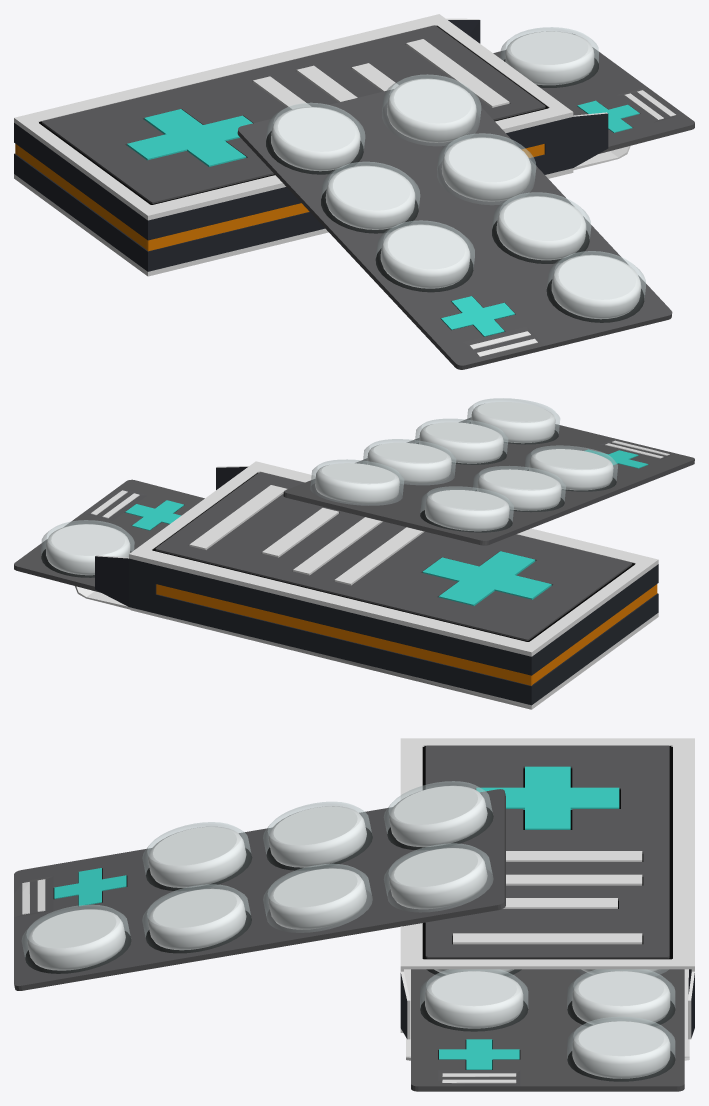
Rendered from SM_Medication_Box.fbx.
3 views of the same model, one above another, from view 1: azimuth 30°, elevation 25°; view 2: azimuth 150°, elevation 25°; view 3: azimuth 270°, elevation 25° (orthographic). The views are drawn at different scales.
Parts seen in each view (by area): view 1: SM_Medication_Box.001; view 2: SM_Medication_Box.001; view 3: SM_Medication_Box.001.
Part boxes in pixels (<box>): SM_Medication_Box.001: <box>14,14,694,369</box>; SM_Medication_Box.001: <box>14,398,694,709</box>; SM_Medication_Box.001: <box>14,738,694,1091</box>.
Bounding box in the file's own units: 14.33 × 2.46 × 13.88.
